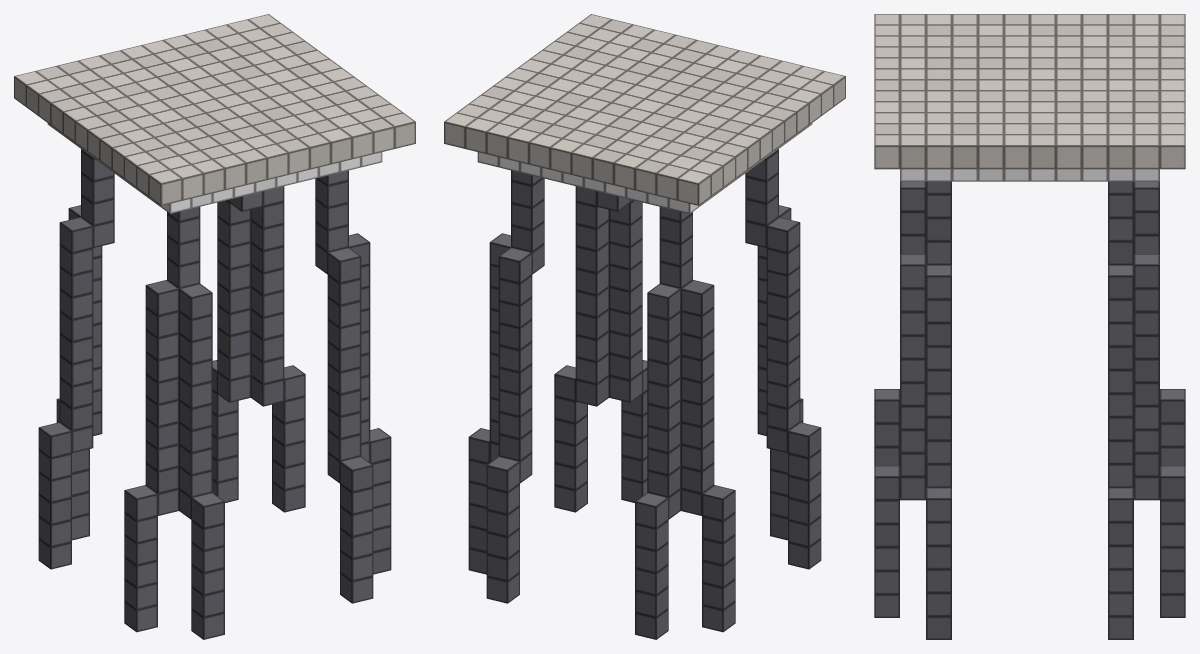
The model's file is tall_table_square.glb.
3 views of the same model, side by side, from view 1: azimuth 30°, elevation 25°; view 2: azimuth 150°, elevation 25°; view 3: azimuth 270°, elevation 25° (orthographic). The views are drawn at different scales.
Parts seen in each view (by area): view 1: tall_table_square; view 2: tall_table_square; view 3: tall_table_square.
Boxes of the visible parts, box(x1,y1,x2,y2) form: tall_table_square: box(14, 14, 415, 639); tall_table_square: box(444, 14, 845, 639); tall_table_square: box(874, 14, 1185, 639).
Bounding box in the file's own units: 0.6 × 1.05 × 0.6.
Materials: 3 (3 with a texture image).
